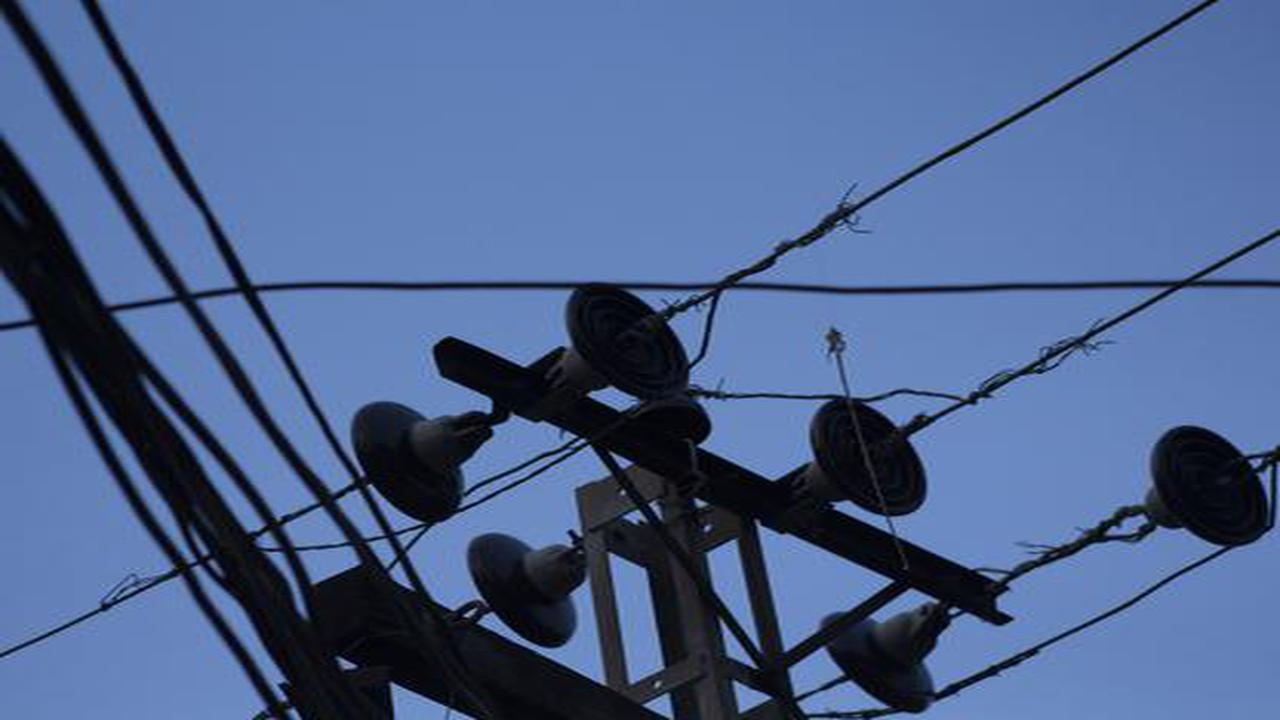insulator_disc: (1122, 412, 1273, 561), (806, 572, 962, 713), (793, 389, 943, 527), (342, 392, 491, 514), (557, 283, 703, 403), (463, 525, 590, 645)
